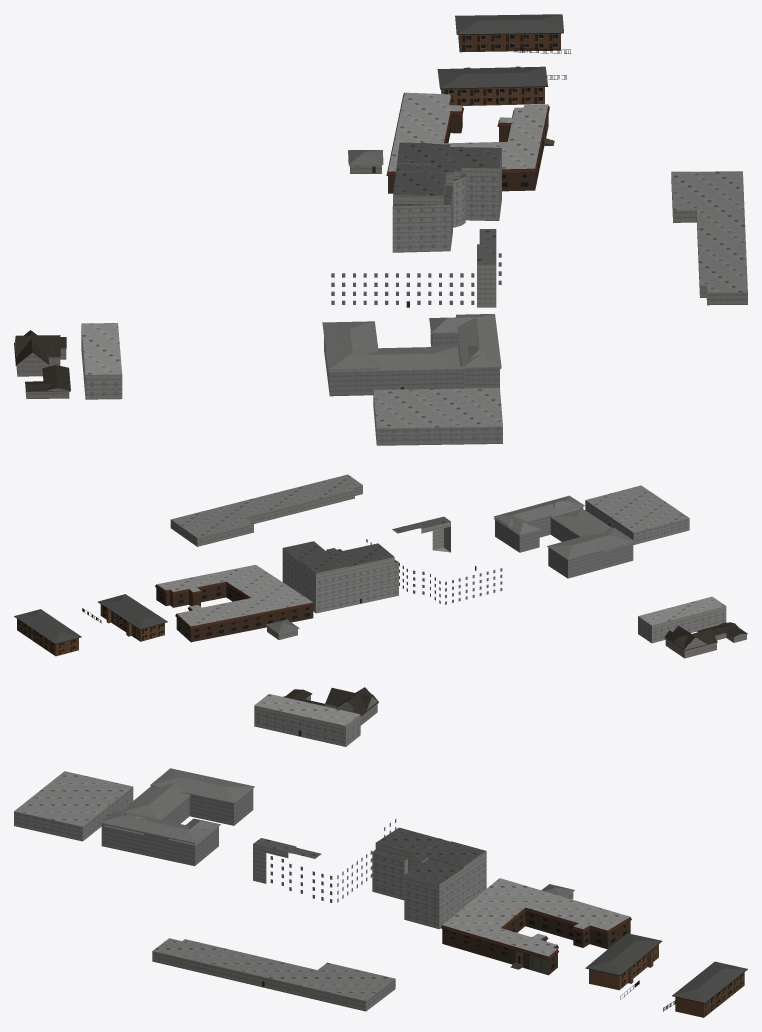
3 views of the same model, one above another, from view 1: azimuth 30°, elevation 25°; view 2: azimuth 150°, elevation 25°; view 3: azimuth 270°, elevation 25° (orthographic). The views are drawn at different scales.
Parts seen in each view (by area): view 1: opaque (×11), glass; view 2: opaque (×11), glass; view 3: opaque (×11), glass.
Part boxes in pixels (x1,y1,x2,y2): opaque (×11): (14, 14, 747, 445); glass: (22, 166, 742, 442); opaque (×11): (14, 474, 747, 658); glass: (172, 489, 741, 654); opaque (×11): (14, 687, 747, 1017); glass: (17, 698, 570, 1007).
Bounding box in the file's own units: 268 × 18.33 × 257.
24 materials, 23 textured.
